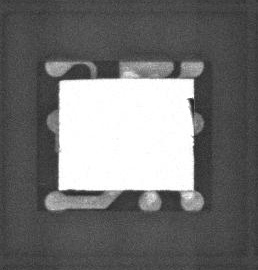DIE_BROKEN: (186, 95, 194, 119)
